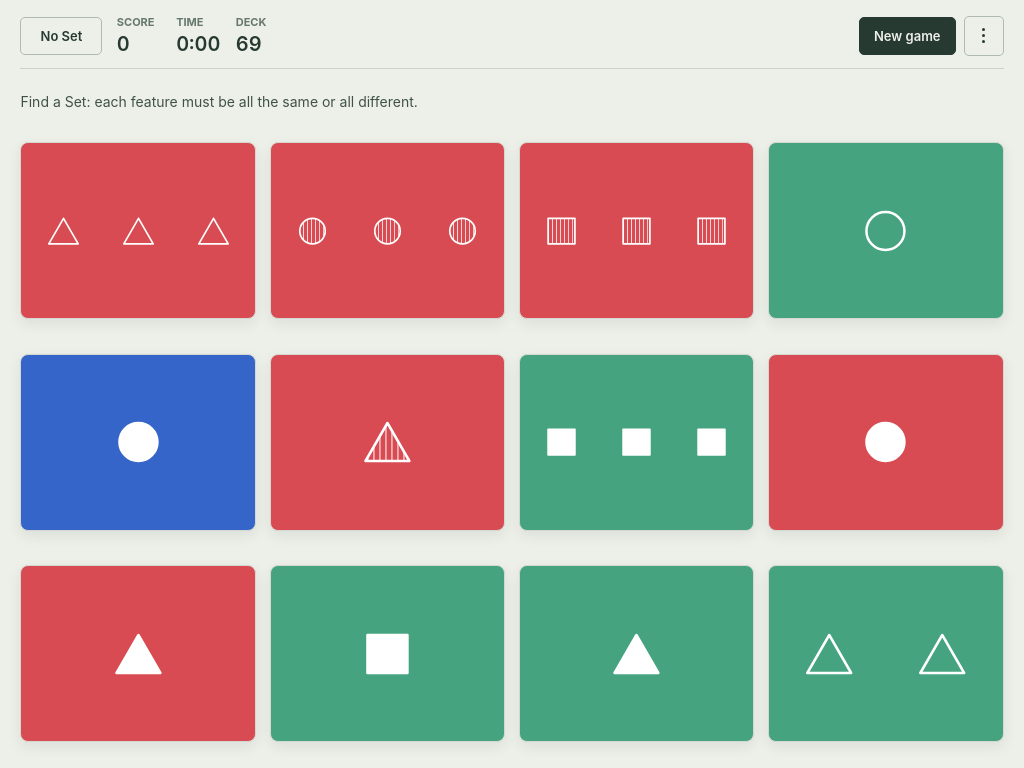
Test: deducts a point for an incorrect three-card guess
Click the 1st button with class "set-card" at (138, 231), box x1=20 y1=142 x2=256 y2=319
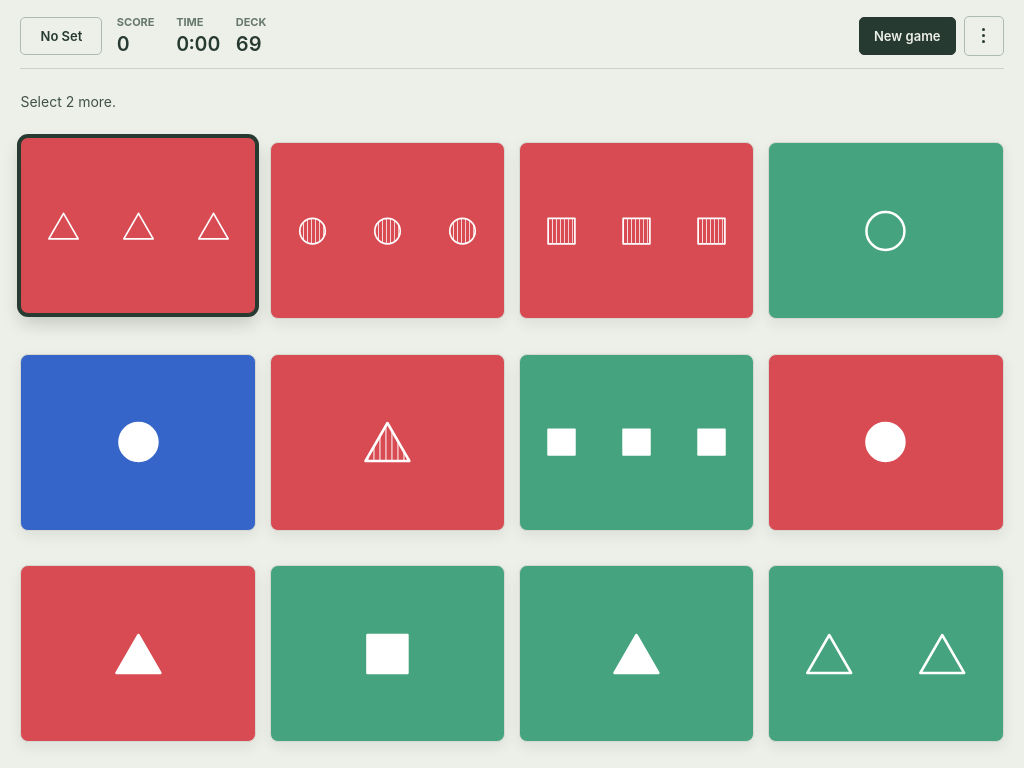
Click the 2nd button with class "set-card" at (388, 231), box x1=270 y1=142 x2=505 y2=319
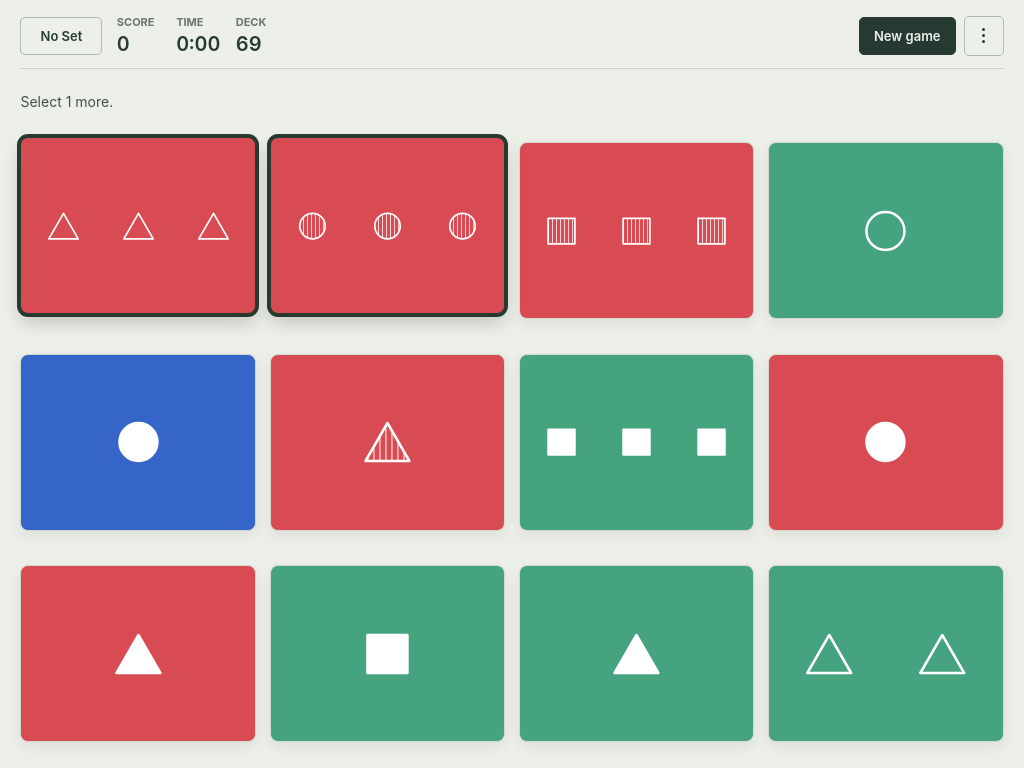
Click the 3rd button with class "set-card" at (637, 231), box x1=519 y1=142 x2=754 y2=319
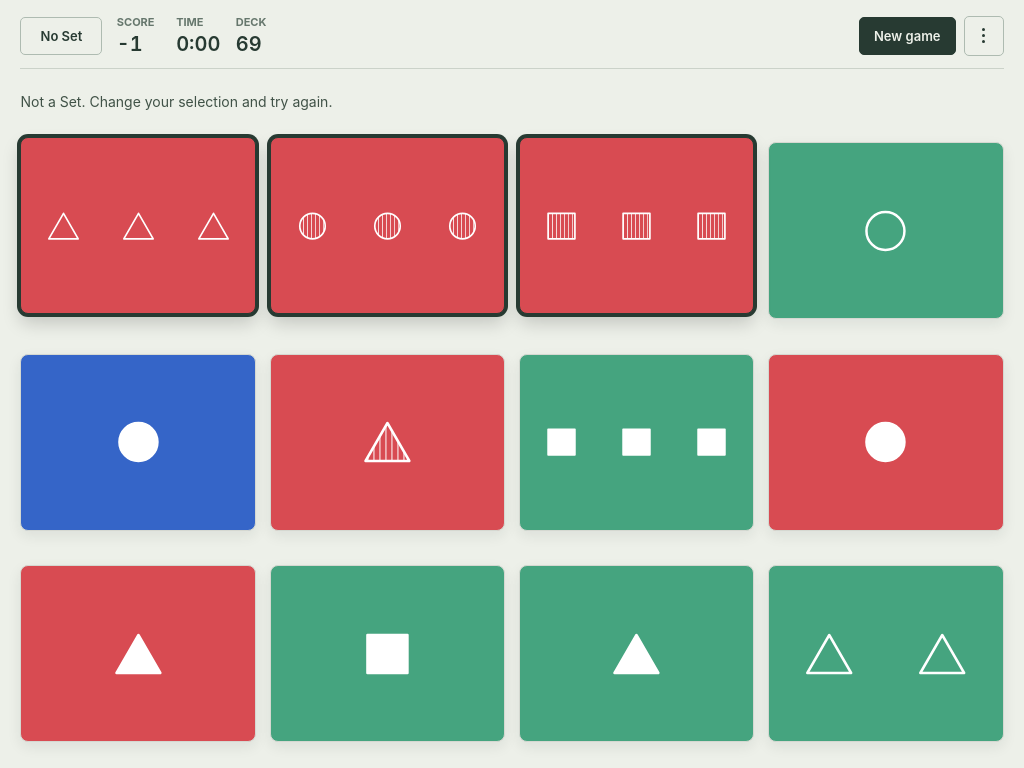
Expected: the number of elements with class "stat" is 3, x1=117 y1=15 x2=161 y2=56; x1=176 y1=15 x2=220 y2=56; x1=236 y1=15 x2=266 y2=56
Expected: the text "Not a Set. Change your selection and try again." is shown, x1=20 y1=93 x2=332 y2=110
Expected: the text "-1" is shown, x1=117 y1=32 x2=143 y2=56
